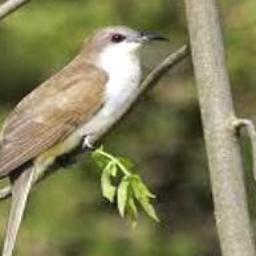Cuckoo: (0, 25, 170, 198)
